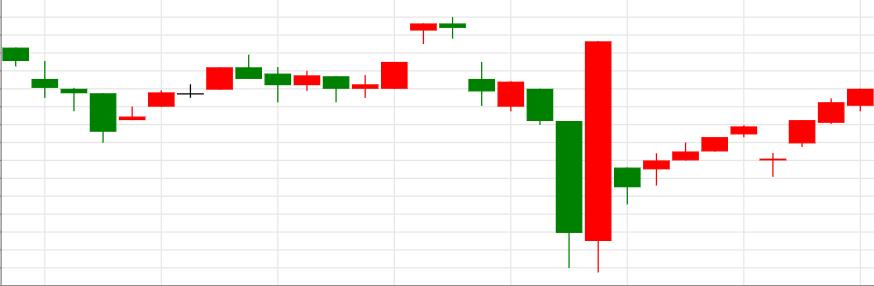bullish_engulfing_rise: (439, 16, 612, 273)
